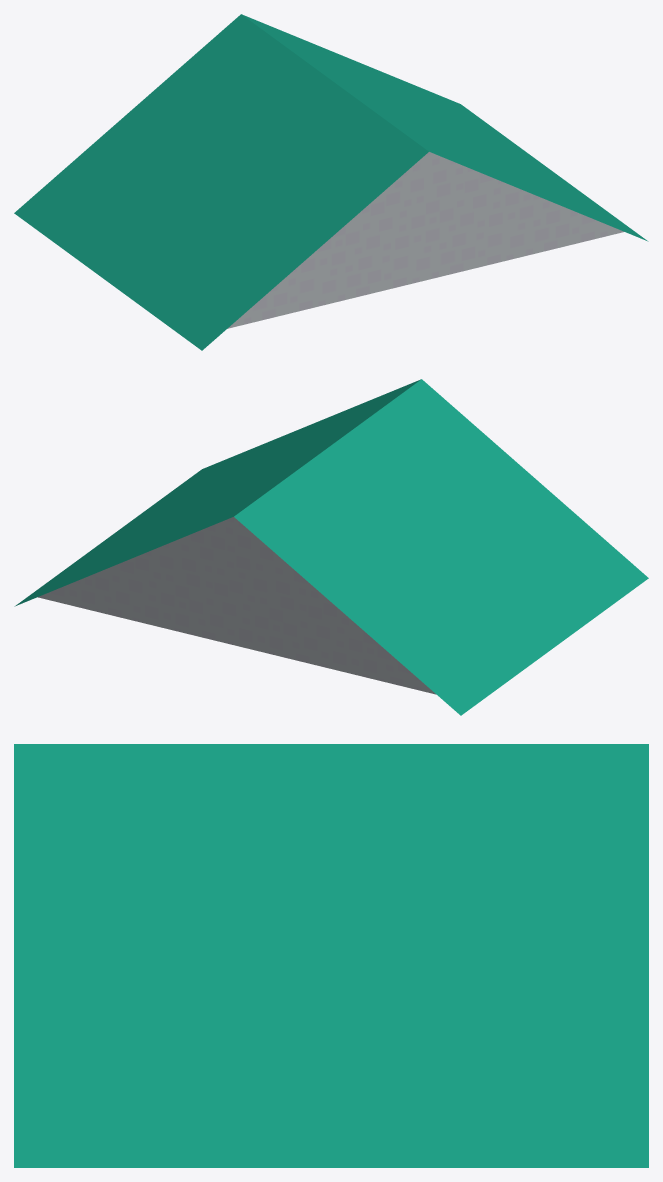
File: building_s499-500_floor1.glb
3 views of the same model, one above another, from view 1: azimuth 30°, elevation 25°; view 2: azimuth 150°, elevation 25°; view 3: azimuth 270°, elevation 25° (orthographic). The views are drawn at different scales.
Visible parts, largest first — view 1: building_s499-500_floor1; view 2: building_s499-500_floor1; view 3: building_s499-500_floor1.
Boxes of the visible parts, left/top/right/bottom form: building_s499-500_floor1: left=14, top=14, right=648, bottom=350; building_s499-500_floor1: left=14, top=379, right=648, bottom=715; building_s499-500_floor1: left=14, top=744, right=648, bottom=1167.
Size of the model in its own units: 6.61 by 2.03 by 4.82.
Materials: 2 (1 with a texture image).
